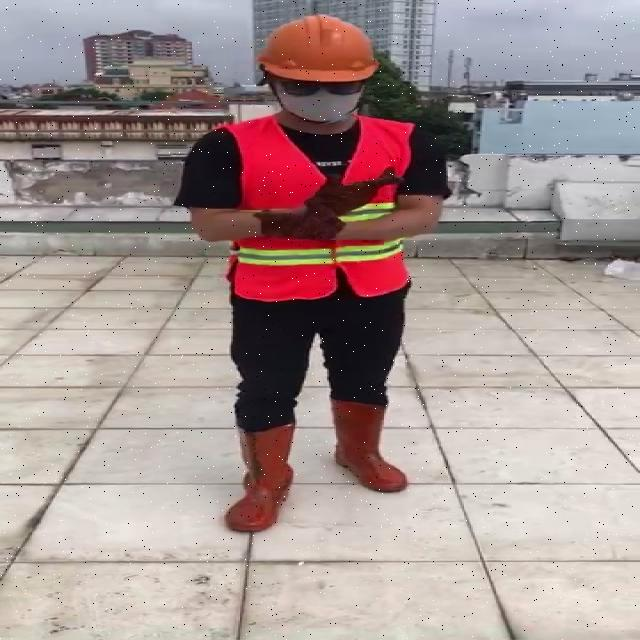Hard_hat: (252, 10, 383, 83)
Person: (165, 10, 465, 554)
Vest: (223, 113, 406, 311)
